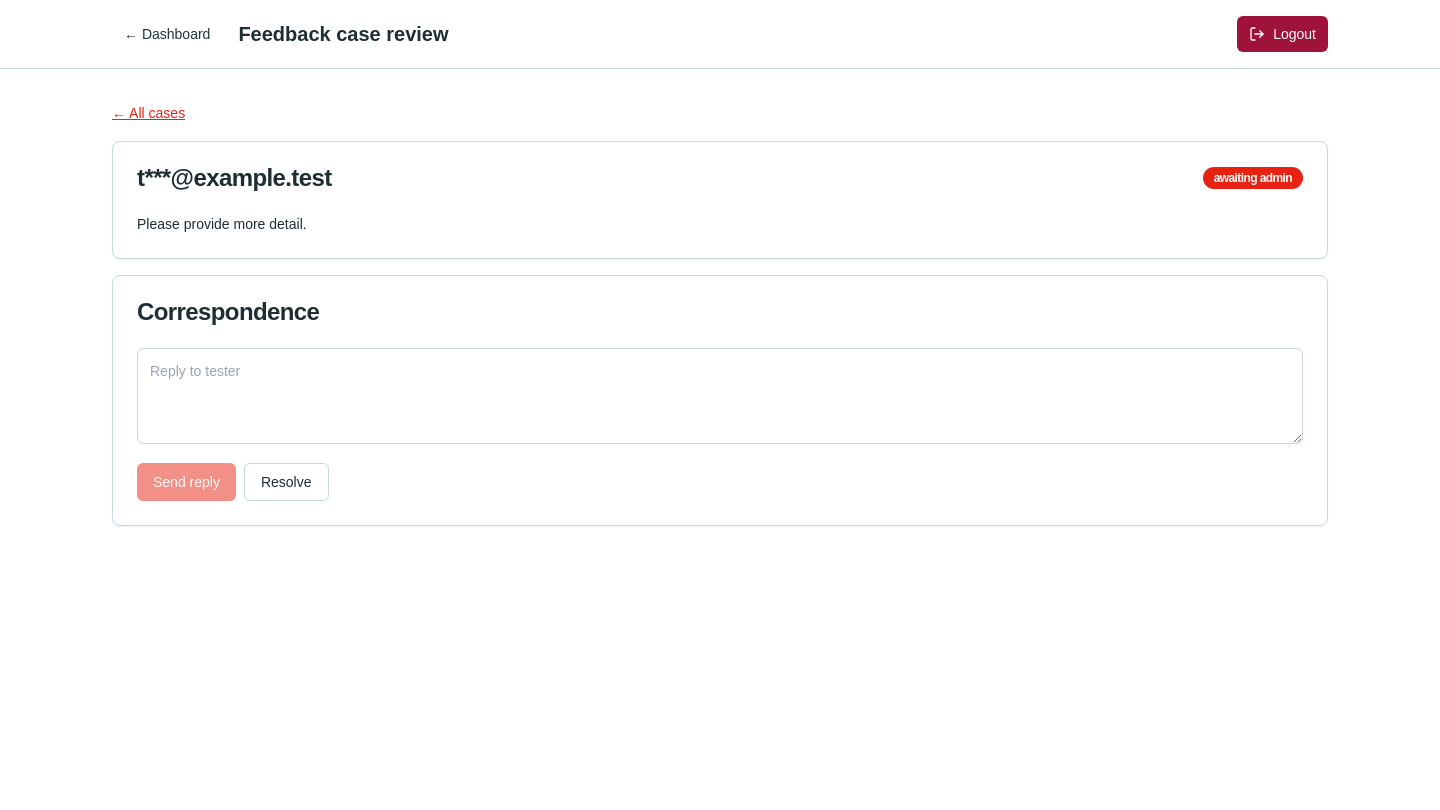
Test case: AdminFeedbackCasesPage › keeps the draft and shows an error when a reply cannot be sent
In the text box with placeholder "Reply to tester": (720, 396) [137,348,1303,444], type "Thanks for the feedback."
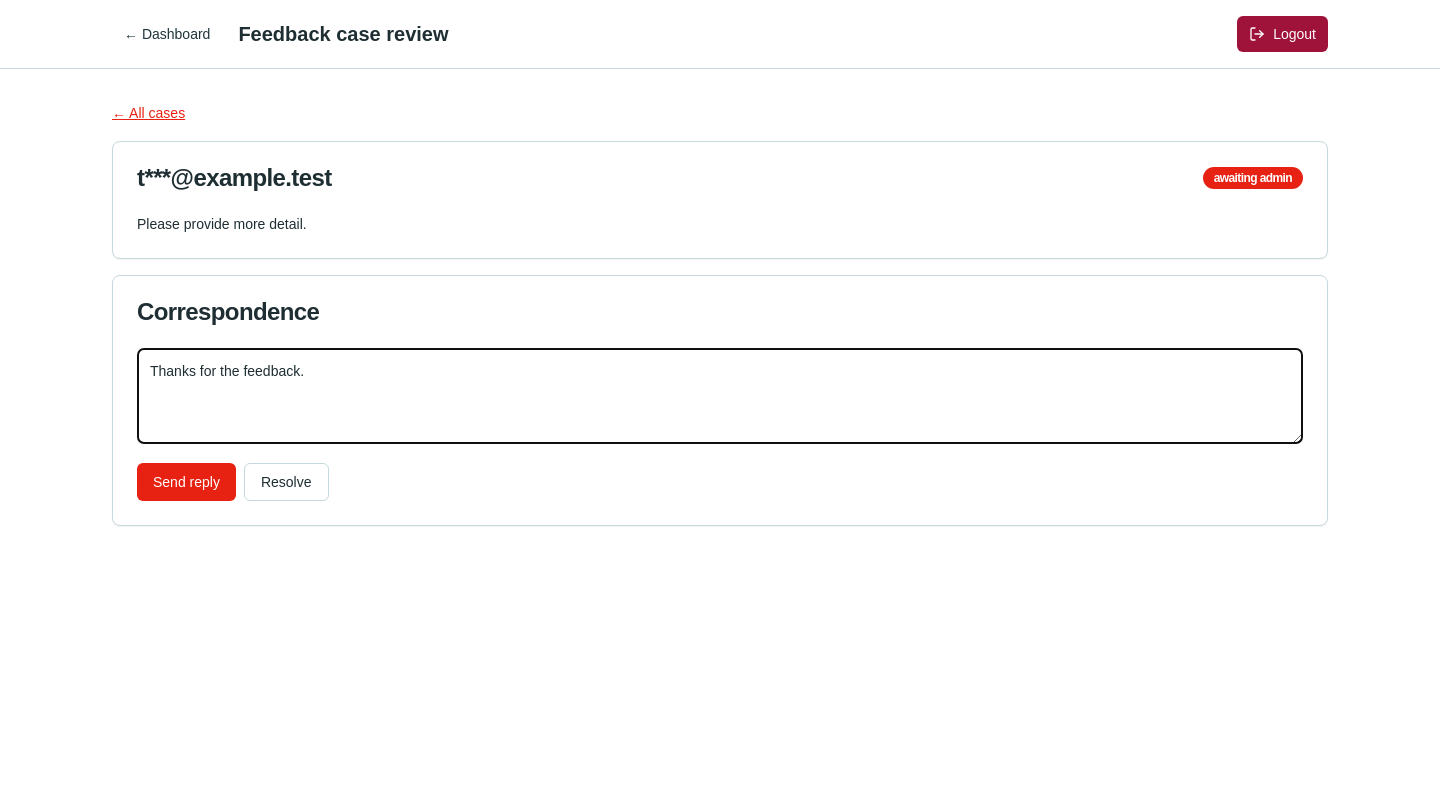
Click the button "Send reply": (186, 482) [137,463,236,501]
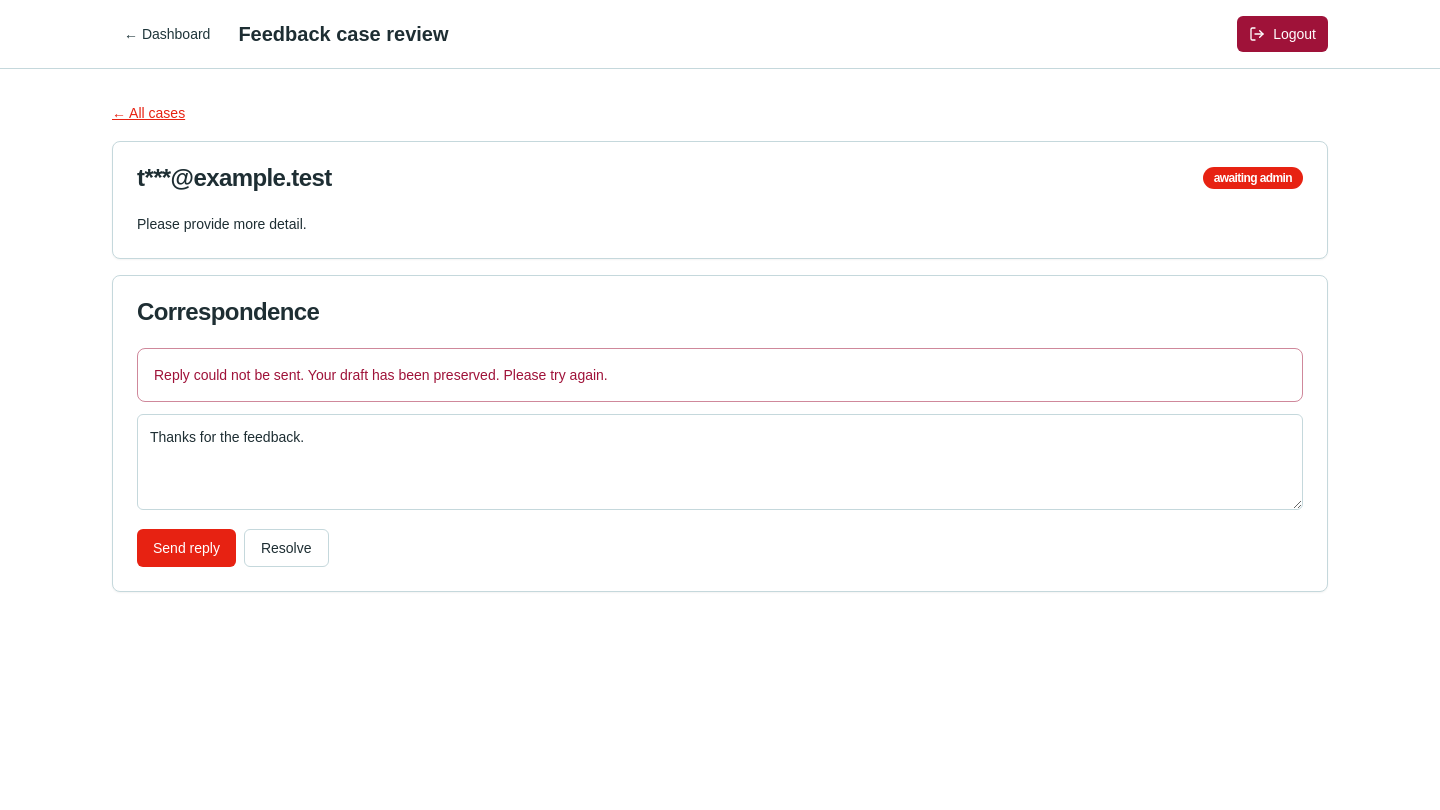
Result: the button "Send reply" is enabled at [137,529,236,567]
Result: the message shows "Reply could not be sent" at [154,367,608,383]
